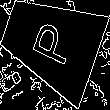P_W: (25, 16, 77, 69)
